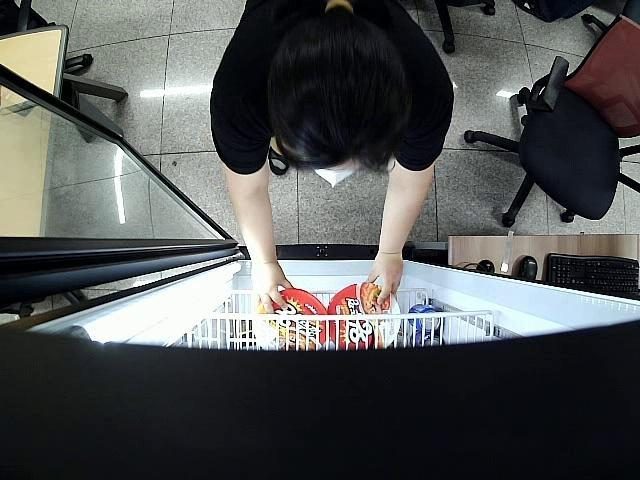10_wangTtukkeong: (330, 284, 401, 351), (254, 286, 330, 348)
